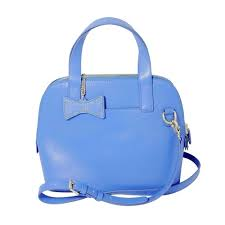cartera: (28, 13, 205, 209)
cuero: (51, 126, 161, 163)
